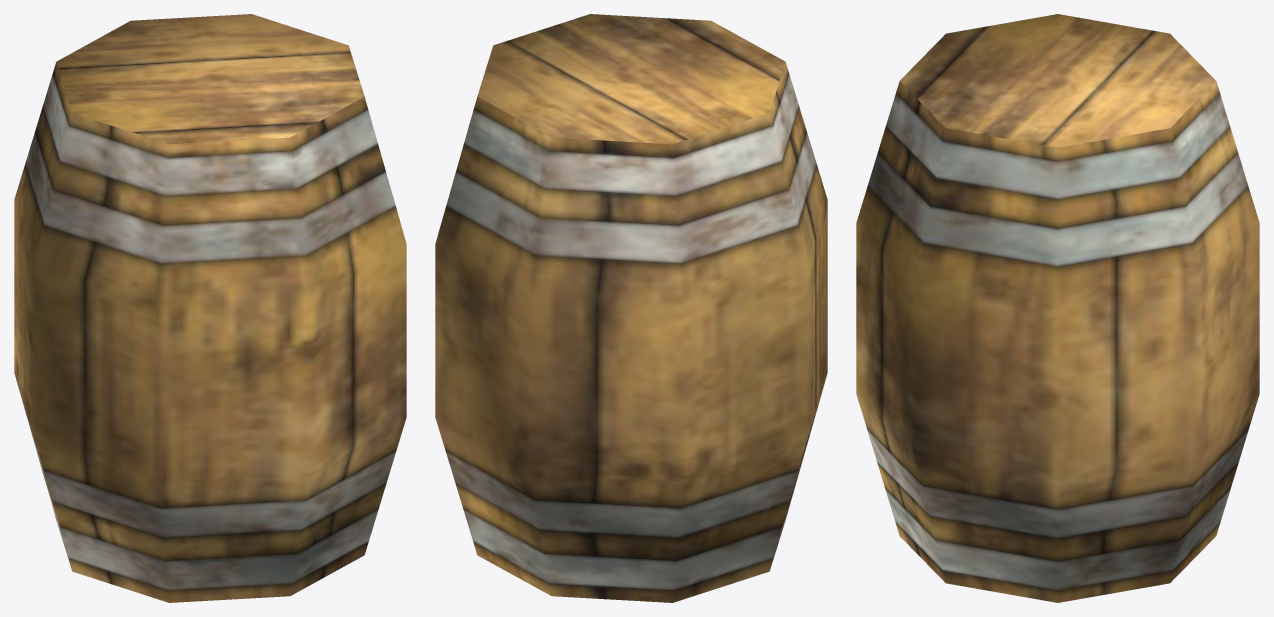
The model's file is barrel.glb.
3 views of the same model, side by side, from view 1: azimuth 30°, elevation 25°; view 2: azimuth 150°, elevation 25°; view 3: azimuth 270°, elevation 25° (orthographic).
Parts seen in each view (by area): view 1: Barrel; view 2: Barrel; view 3: Barrel.
Part boxes in pixels (x1,y1,x2,y2): Barrel: (14, 14, 406, 602); Barrel: (435, 14, 827, 602); Barrel: (856, 14, 1259, 602).
Bounding box in the file's own units: 1.22 × 1.52 × 1.22.
Materials: 1 (1 with a texture image).
